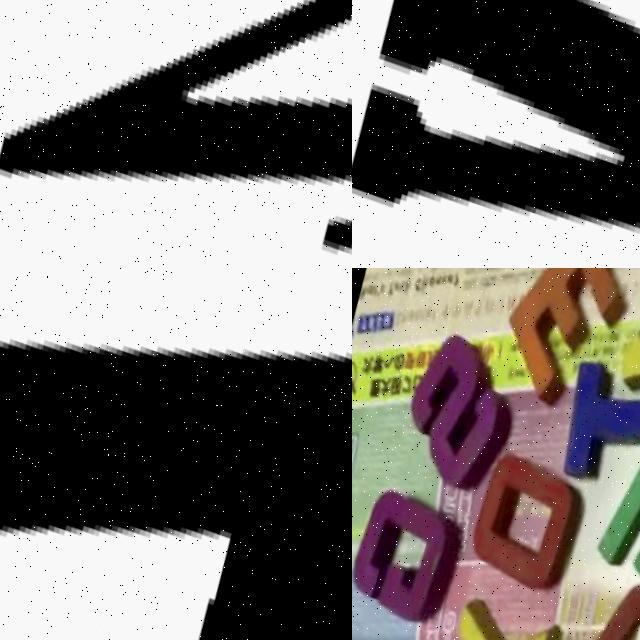E: (481, 268, 627, 404)
F: (574, 431, 640, 614)
G: (352, 472, 476, 635)
L: (0, 268, 352, 640), (598, 284, 640, 451)
O: (456, 450, 595, 599)
S: (383, 328, 535, 500)
T: (540, 343, 640, 499)
U: (544, 570, 640, 640)
V: (352, 0, 640, 268)
X: (416, 590, 565, 640)
